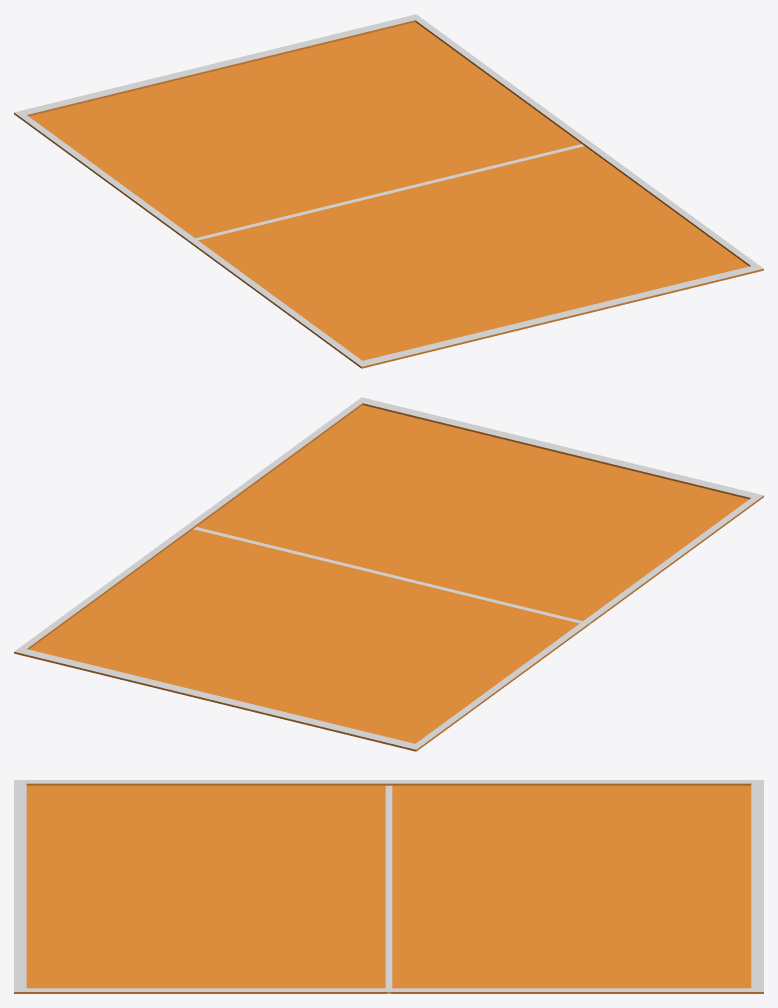
Rendered from Ground.fbx.
3 renders of one model, top to bottom at view 1: azimuth 30°, elevation 25°; view 2: azimuth 150°, elevation 25°; view 3: azimuth 270°, elevation 25°, orthographic. The views are drawn at different scales.
Visible parts, largest first — view 1: Field Lines; view 2: Field Lines; view 3: Field Lines.
Boxes of the visible parts, <box> form: Field Lines: <box>14,14,763,368</box>; Field Lines: <box>14,397,763,751</box>; Field Lines: <box>14,780,763,993</box>.
Bounding box in the file's own units: 11.99 × 0.0537 × 17.94.
